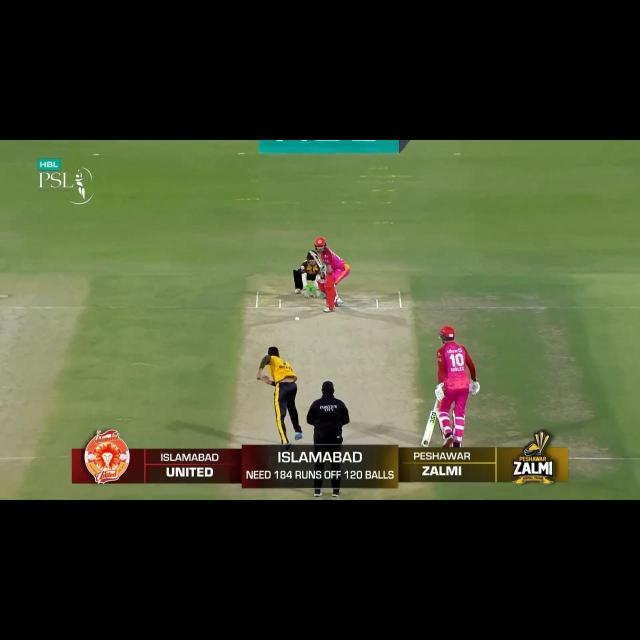bat: (421, 410, 439, 448), (309, 250, 323, 268)
toe: (422, 438, 431, 446), (308, 249, 314, 256)
